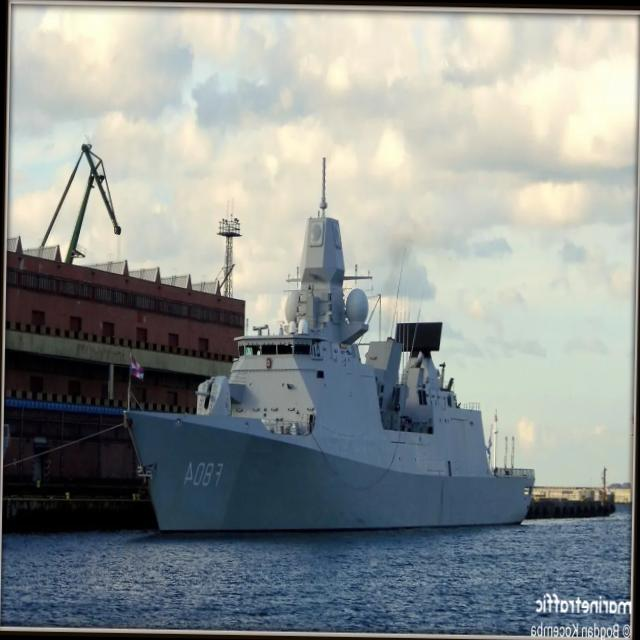Military: (124, 160, 534, 530)
